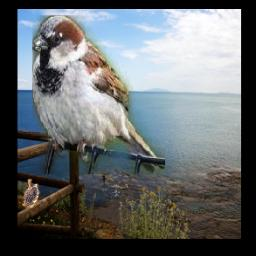Sparrow: (32, 16, 165, 175), (22, 179, 39, 207)
